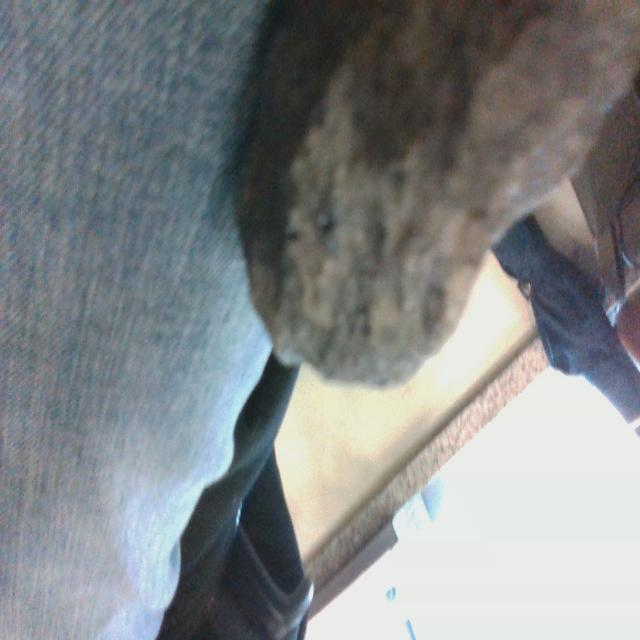stone: (232, 0, 640, 394)
